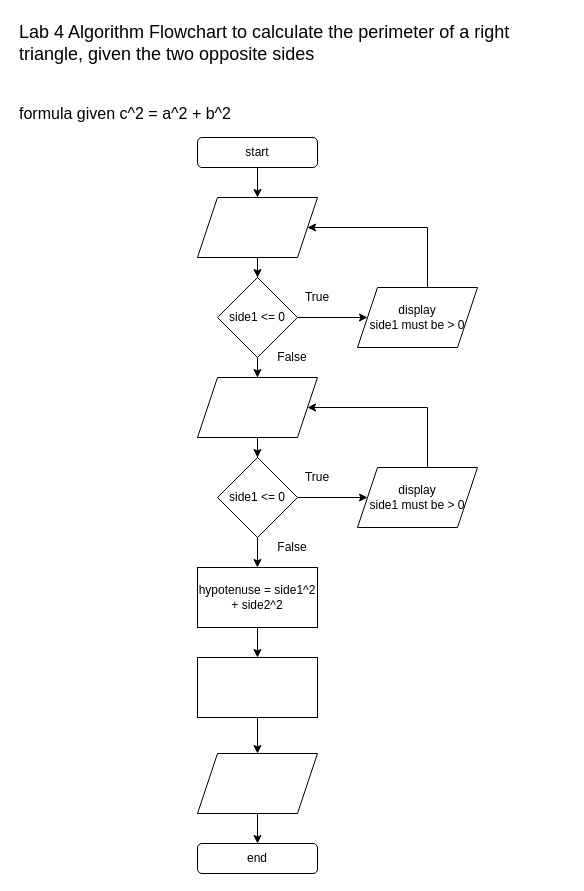
Image size: 584x891. Some labels were removed from this diagram. The shapes that lost their labels are listed below. From the top down, each one's centre as x and y in pixels, then its label:
[257,227]: accept side1
[257,407]: accept side2
[257,687]: perimeter = hypotenuse + side1 + side2
[257,783]: display perimeter
